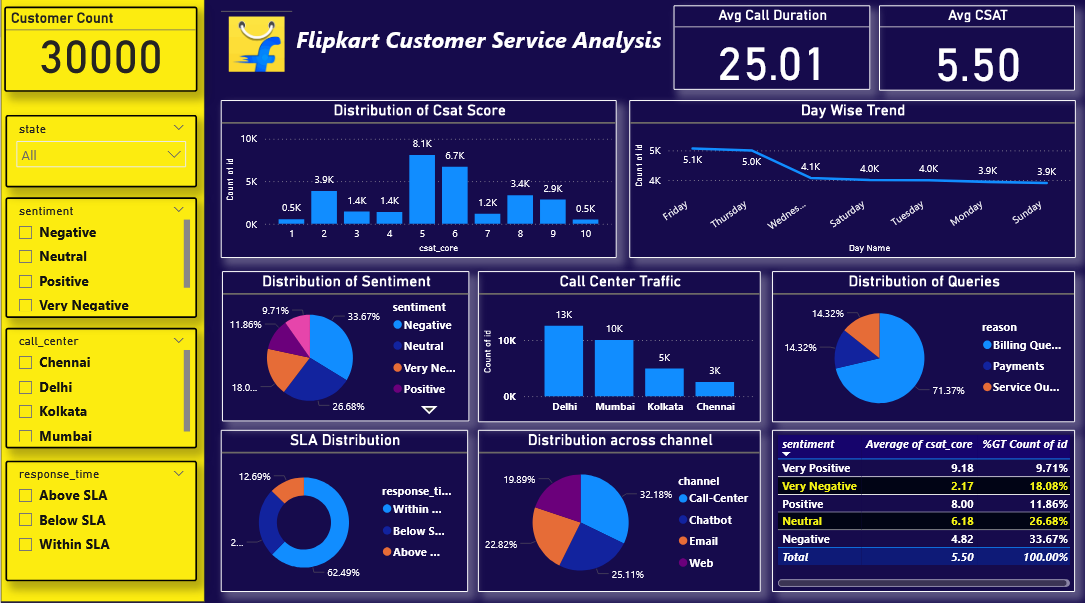

This screenshot's page, from the dashboard's own definition file:
{"tool":"powerbi","page":{"name":"Overview","canvas":[1280,720],"ordinal":0},"visuals":[{"type":"card","title":"Avg CSAT","fields":{"Values":["Avg(Flipkart.csat_core)"]},"box":[1040.8,12.2,232.5,101.4],"z":0},{"type":"card","title":"Avg Call Duration","fields":{"Values":["Avg(Flipkart.call duration in minutes)"]},"box":[798,12.1,233.2,99.9],"z":1000},{"type":"shape","box":[0,0,242,718.7],"z":2000},{"type":"image","box":[261,13.1,84.6,81.6],"z":3000},{"type":"columnChart","title":"Distribution of Csat Score","fields":{"Category":["Flipkart.csat_core"],"Y":["CountNonNull(Flipkart.id)"]},"box":[261,123.9,469.4,186.6],"z":4000},{"type":"lineChart","title":" Day Wise Trend","fields":{"Category":["Flipkart.Day Name"],"Y":["CountNonNull(Flipkart.id)"]},"box":[744.8,124.4,528.5,186.5],"z":5000},{"type":"pieChart","title":"Distribution of Sentiment","fields":{"Category":["Flipkart.sentiment"],"Y":["CountNonNull(Flipkart.id)"]},"box":[262.2,327.1,293.3,178.4],"z":6000},{"type":"columnChart","title":"Call Center Traffic","fields":{"Category":["Flipkart.call_center"],"Y":["CountNonNull(Flipkart.id)"]},"box":[565.6,326.6,335.3,179.3],"z":7000},{"type":"pieChart","title":"Distribution of Queries","fields":{"Y":["CountNonNull(Flipkart.id)"],"Category":["Flipkart.reason"]},"box":[914.1,326.6,358.6,179.3],"z":8000},{"type":"donutChart","title":"SLA Distribution","fields":{"Category":["Flipkart.response_time"],"Y":["CountNonNull(Flipkart.id)"]},"box":[261,514.6,293,192.4],"z":9000},{"type":"pieChart","title":"Distribution across channel","fields":{"Y":["CountNonNull(Flipkart.id)"],"Category":["Flipkart.channel"]},"box":[565.6,514.6,335.3,192.4],"z":10000},{"type":"tableEx","fields":{"Values":["Flipkart.sentiment","Avg(Flipkart.csat_core)","Flipkart.id"]},"box":[914.1,514.6,358.6,192.4],"z":11000},{"type":"slicer","fields":{"Values":["Flipkart.state"]},"box":[5.8,141.4,227.4,86],"z":12000},{"type":"slicer","title":"Sentiment","fields":{"Values":["Flipkart.sentiment"]},"box":[5.8,239.1,227.4,142.9],"z":13000},{"type":"slicer","title":"Sentiment","fields":{"Values":["Flipkart.call_center"]},"box":[5.8,393.6,227.4,142.9],"z":14000},{"type":"slicer","title":"Sentiment","fields":{"Values":["Flipkart.response_time"]},"box":[5.8,551.1,227.4,142.9],"z":15000},{"type":"card","title":"Customer Count","fields":{"Values":["CountNonNull(Flipkart.id)"]},"box":[4.4,13.1,228.9,100.6],"z":16000},{"type":"textbox","box":[345.2,27.3,452.7,68.1],"z":17000}]}

Visuals, with their boxes in screenshot pixels (x1, y1, x2, y2), scaled from the page's 1280x720 canvas onto the 1085x603 screenshot:
"Avg CSAT" card: (left=882, top=10, right=1079, bottom=95)
"Avg Call Duration" card: (left=676, top=10, right=874, bottom=94)
shape: (left=0, top=0, right=205, bottom=602)
image: (left=221, top=11, right=293, bottom=79)
"Distribution of Csat Score" columnChart: (left=221, top=104, right=619, bottom=260)
" Day Wise Trend" lineChart: (left=631, top=104, right=1079, bottom=260)
"Distribution of Sentiment" pieChart: (left=222, top=274, right=471, bottom=423)
"Call Center Traffic" columnChart: (left=479, top=274, right=764, bottom=424)
"Distribution of Queries" pieChart: (left=775, top=274, right=1079, bottom=424)
"SLA Distribution" donutChart: (left=221, top=431, right=470, bottom=592)
"Distribution across channel" pieChart: (left=479, top=431, right=764, bottom=592)
tableEx - Flipkart.sentiment x Avg(Flipkart.csat_core): (left=775, top=431, right=1079, bottom=592)
slicer - Flipkart.state: (left=5, top=118, right=198, bottom=190)
"Sentiment" slicer: (left=5, top=200, right=198, bottom=320)
"Sentiment" slicer: (left=5, top=330, right=198, bottom=449)
"Sentiment" slicer: (left=5, top=462, right=198, bottom=581)
"Customer Count" card: (left=4, top=11, right=198, bottom=95)
textbox: (left=293, top=23, right=676, bottom=80)
